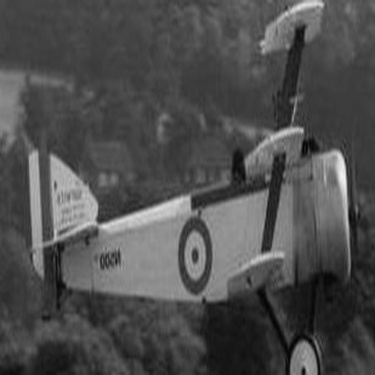airplane: (6, 2, 370, 371)
